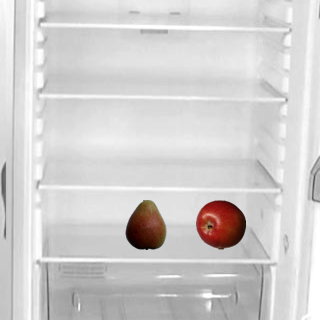Apple Braeburn: (195, 199, 245, 249)
Pear Forelle: (120, 199, 170, 249)
